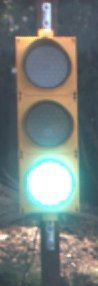Green: (11, 21, 83, 238)
